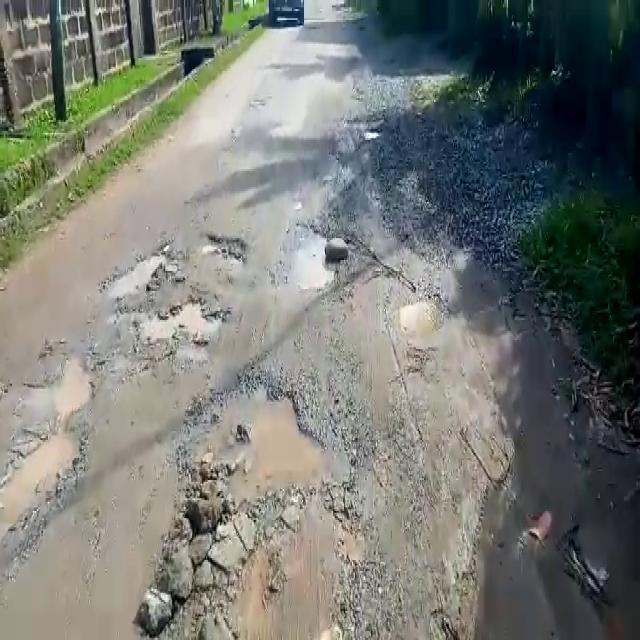pothole: (177, 374, 367, 530), (2, 420, 88, 537), (132, 280, 231, 348), (22, 352, 96, 415), (278, 220, 337, 292), (104, 244, 167, 294), (392, 292, 447, 341)
